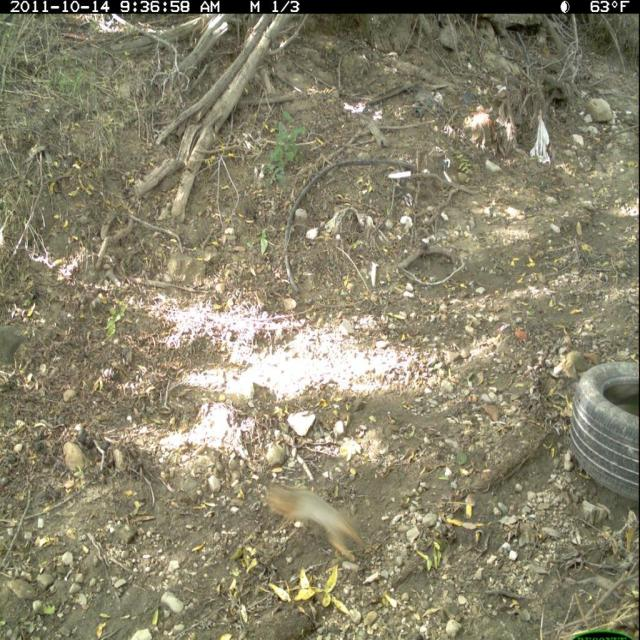squirrel: (260, 477, 377, 574)
